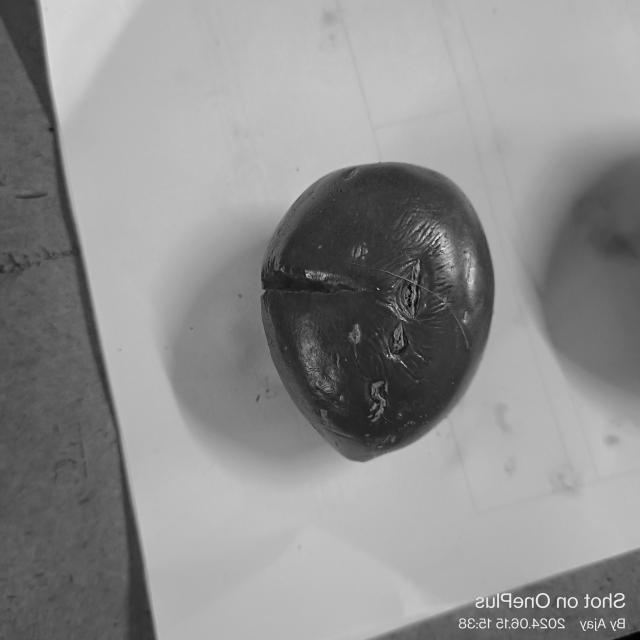Botrytis: (362, 252, 438, 422)
